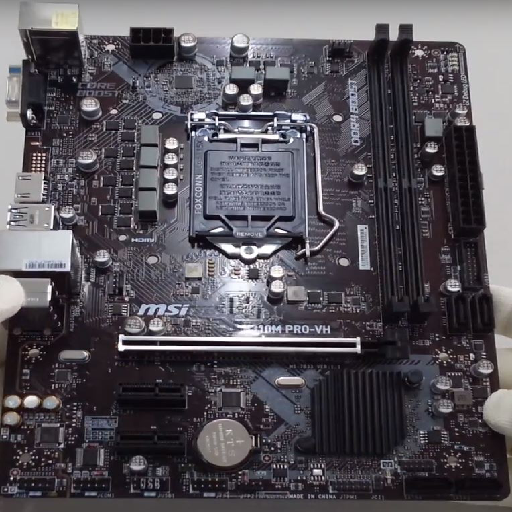CPU: (187, 111, 321, 257)
GPU: (111, 333, 409, 363)
MOTHERBOARD: (6, 13, 507, 505)
RAM: (363, 23, 435, 324)
